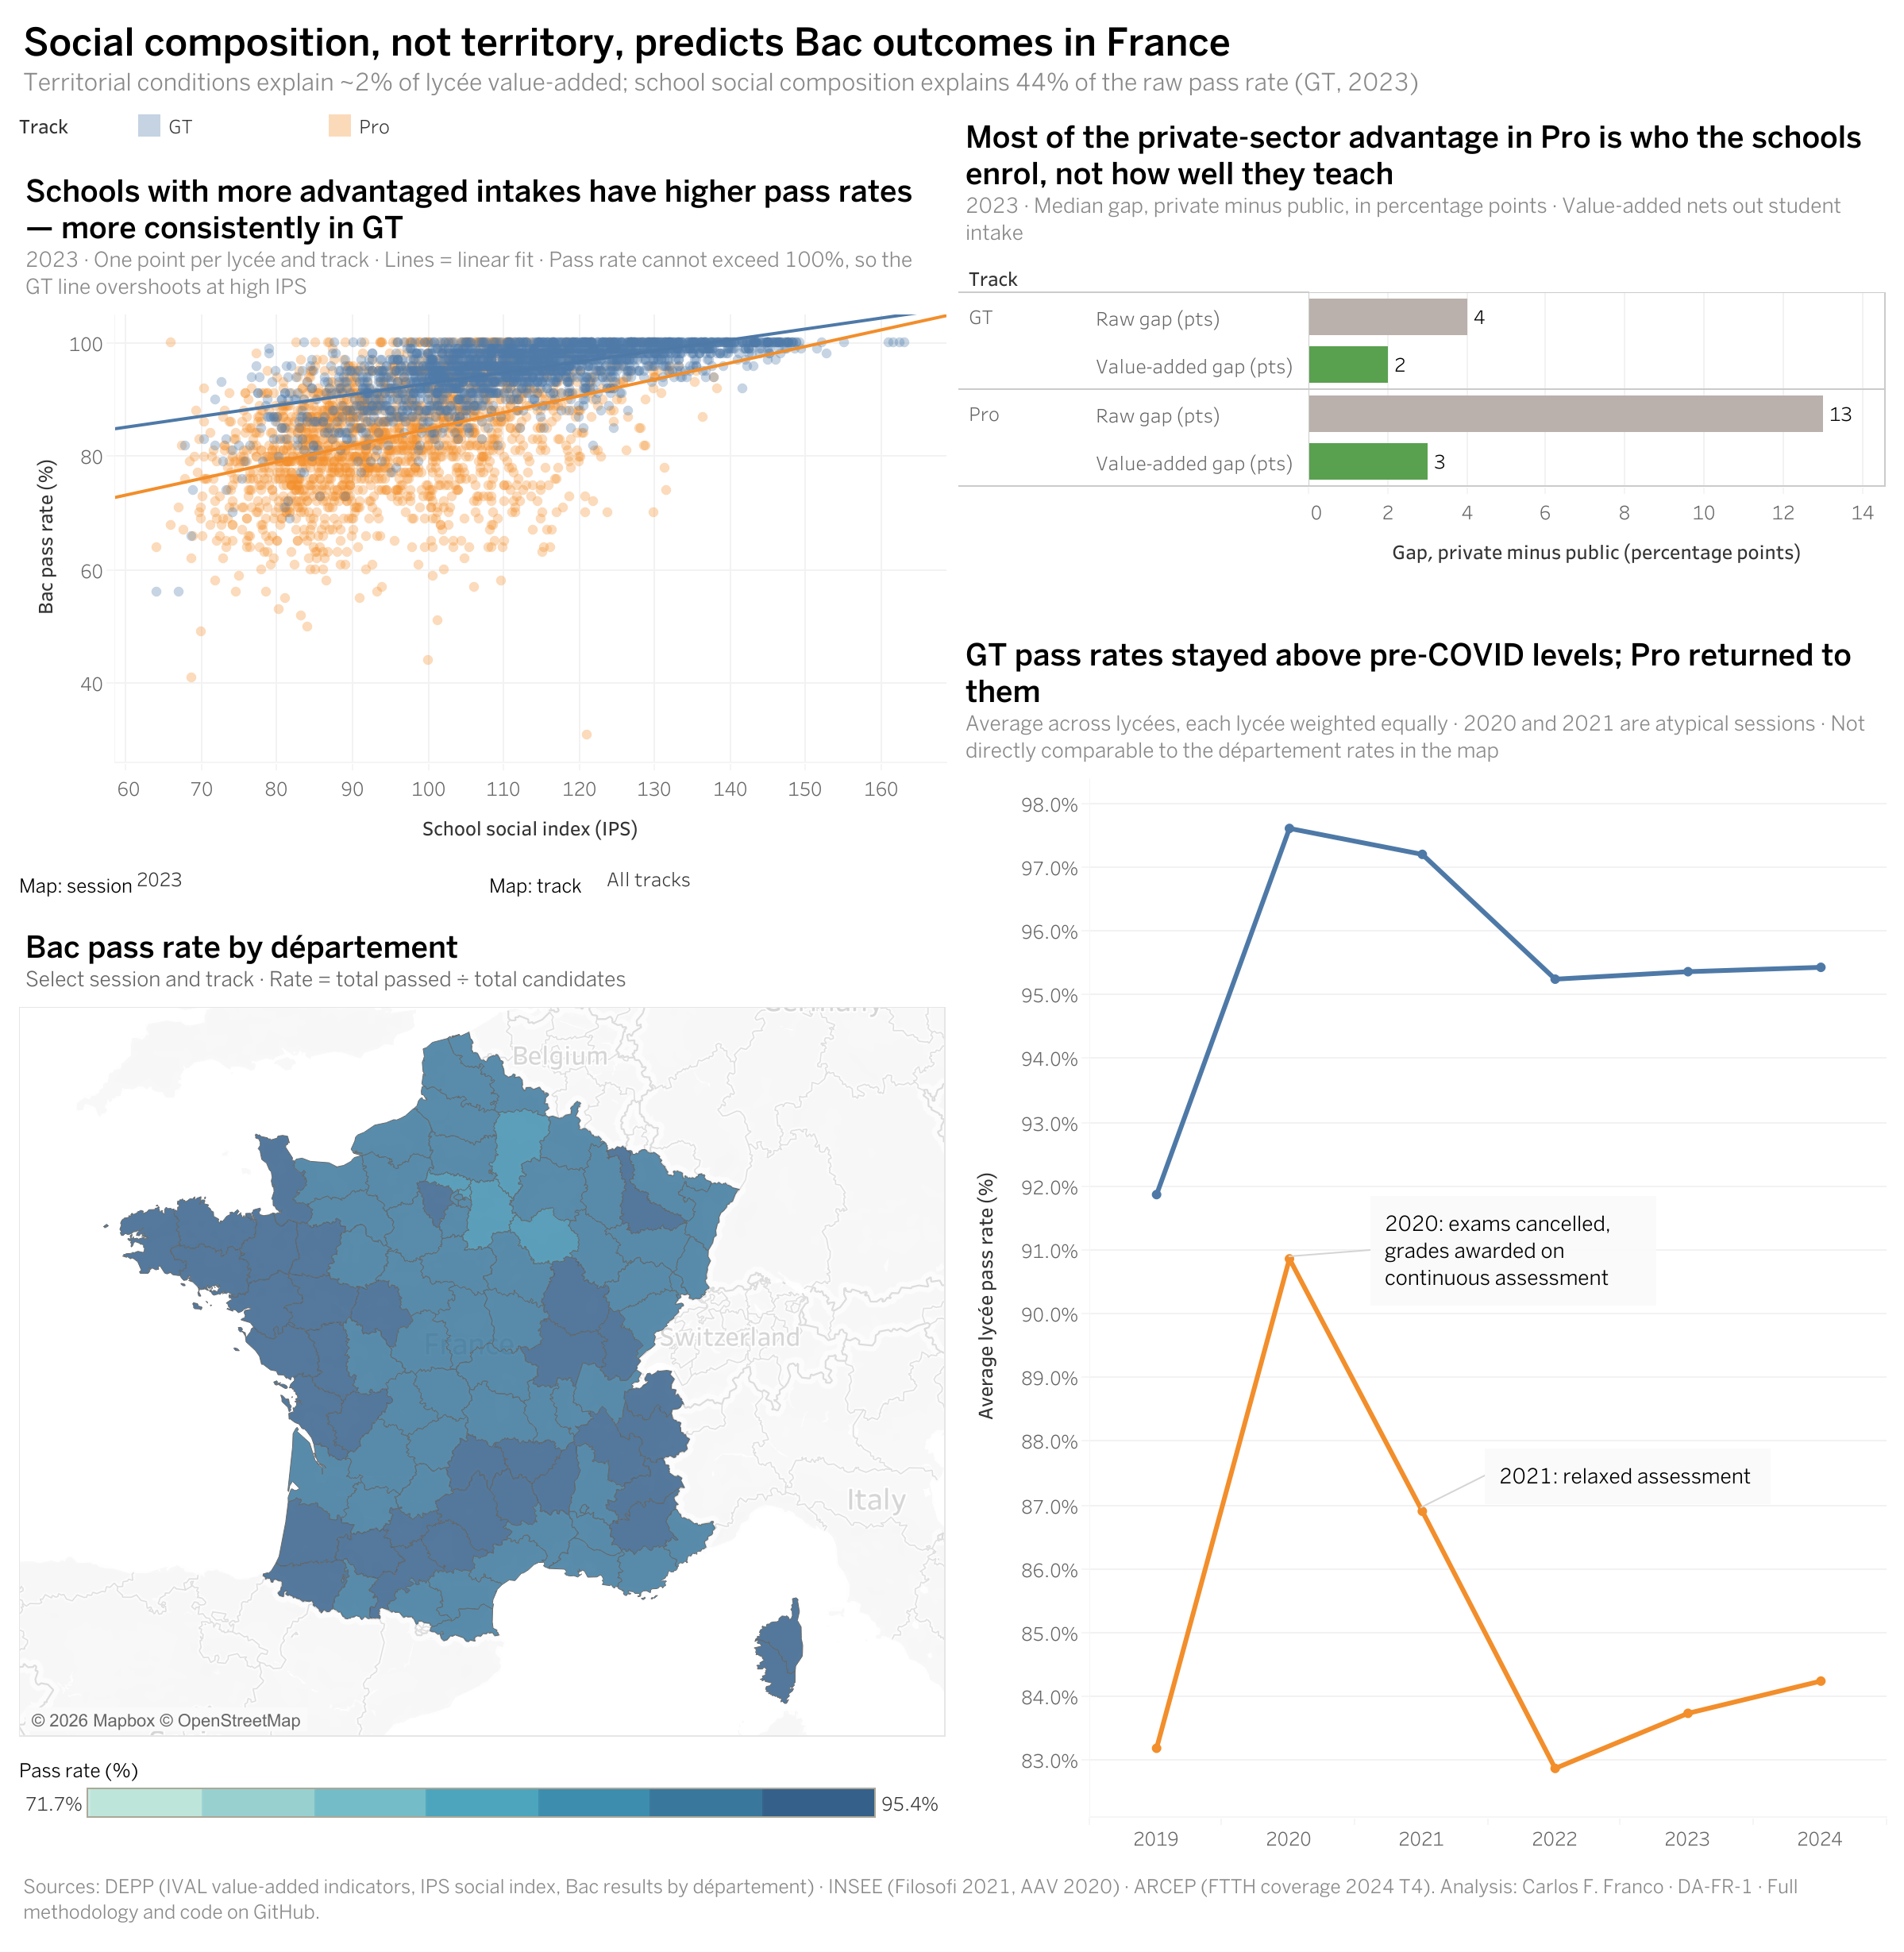

The dashboard page shown, as its layout file describes it:
{"tool":"tableau","page":{"name":"Dashboard","canvas":[1200,1230],"ordinal":0},"visuals":[{"type":"title","box":[8,8,1184,56]},{"type":"legend","title":"Scatter","param":"[federated.01hj05e0z8878b1du4ohz0qno47p].[none:track:nk]","box":[8,64,592,34.4]},{"type":"worksheet","title":"Sector","mark":"Automatic","rows":["track"],"box":[600,64,592,303]},{"type":"worksheet","title":"Scatter","mark":"Circle","rows":["DV2_taux"],"cols":["IPS_mean"],"box":[8,98.4,592,441.6]},{"type":"worksheet","title":"Trend","mark":"Line","rows":["mean_taux"],"cols":["annee"],"box":[600,389.9,592,779.6]},{"type":"filter","title":"Map","param":"[federated.14fbdve1j09w041a4hf8m0e23i8j].[none:session:nk]","box":[8,539.9,296,34.2]},{"type":"filter","title":"Map","param":"[federated.14fbdve1j09w041a4hf8m0e23i8j].[none:track:nk]","box":[304,539.9,296,34.2]},{"type":"worksheet","title":"Map","mark":"Multipolygon","box":[8,574.1,592,523.7]},{"type":"legend","title":"Map","param":"[federated.14fbdve1j09w041a4hf8m0e23i8j].[usr:Calculation_0140448573341698:qk]","box":[8,1097.8,592,71.7]},{"type":"text","box":[8,1169.5,1184,52.5]}]}

Visuals, with their boxes in screenshot pixels (x1, y1, x2, y2), scaled from the page's 1200x1230 canvas onto the 1904x1952 screenshot:
title: x1=13, y1=13, x2=1891, y2=102
"Scatter" legend: x1=13, y1=102, x2=952, y2=156
"Sector" worksheet: x1=952, y1=102, x2=1891, y2=582
"Scatter" worksheet (Circle marks): x1=13, y1=156, x2=952, y2=857
"Trend" worksheet (Line marks): x1=952, y1=619, x2=1891, y2=1856
"Map" filter: x1=13, y1=857, x2=482, y2=911
"Map" filter: x1=482, y1=857, x2=952, y2=911
"Map" worksheet (Multipolygon marks): x1=13, y1=911, x2=952, y2=1742
"Map" legend: x1=13, y1=1742, x2=952, y2=1856
text: x1=13, y1=1856, x2=1891, y2=1939
